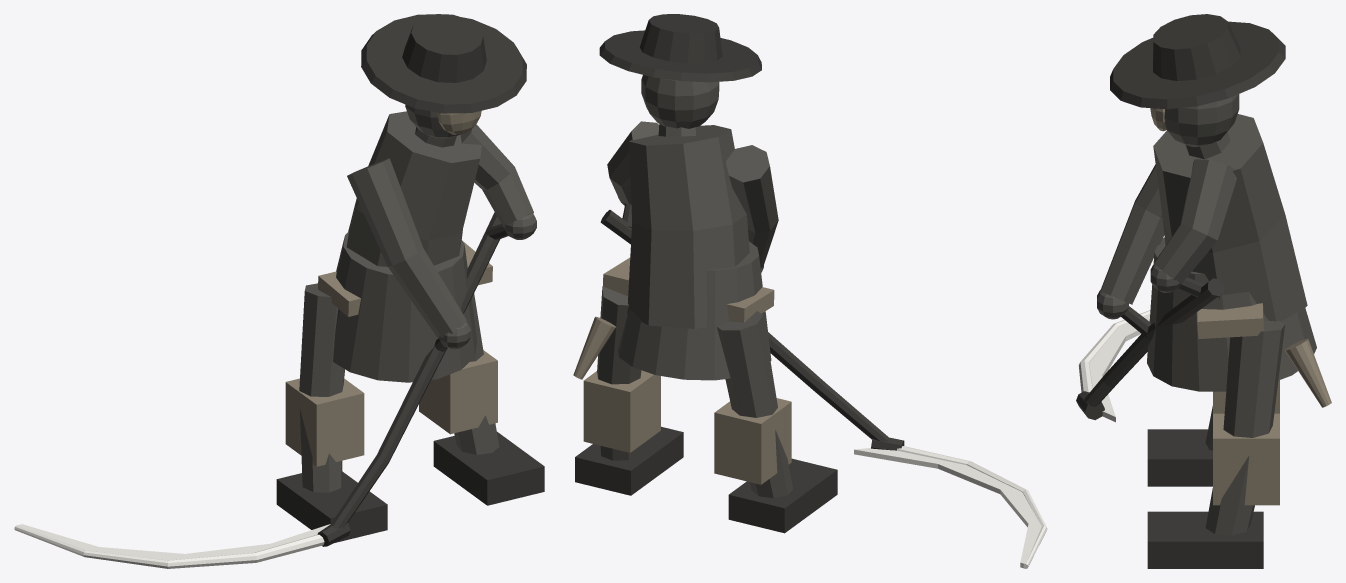
The model's file is mower.glb.
The picture shows the model from 3 angles, left to right: view 1: azimuth 30°, elevation 25°; view 2: azimuth 150°, elevation 25°; view 3: azimuth 270°, elevation 25°; orthographic projection. The views are drawn at different scales.
Visible parts, largest first — view 1: mower_body, mower_dark, mower_bone; view 2: mower_body, mower_dark, mower_bone; view 3: mower_body, mower_dark, mower_bone.
Boxes of the visible parts, box(x1,y1,x2,y2) form: mower_body: box(285, 104, 536, 492); mower_dark: box(276, 14, 544, 546); mower_bone: box(14, 524, 330, 568); mower_body: box(573, 75, 792, 498); mower_dark: box(575, 14, 904, 533); mower_bone: box(854, 446, 1047, 568); mower_body: box(1097, 94, 1331, 535); mower_dark: box(1076, 14, 1285, 568); mower_bone: box(1078, 310, 1150, 422).
Size of the model in its own units: 2.65 by 2.52 by 1.16.
